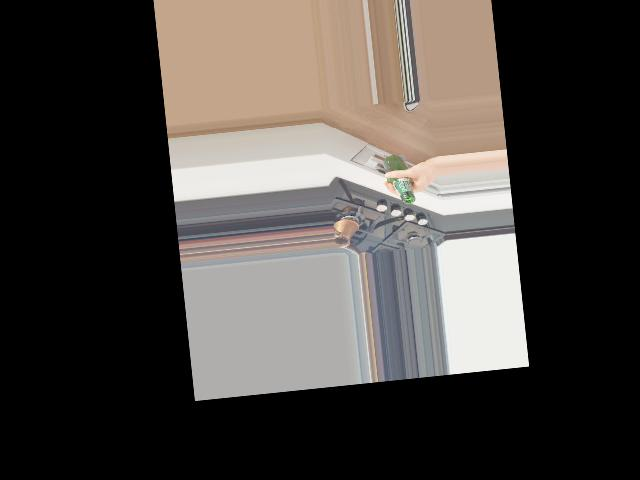beer: (383, 153, 416, 205)
